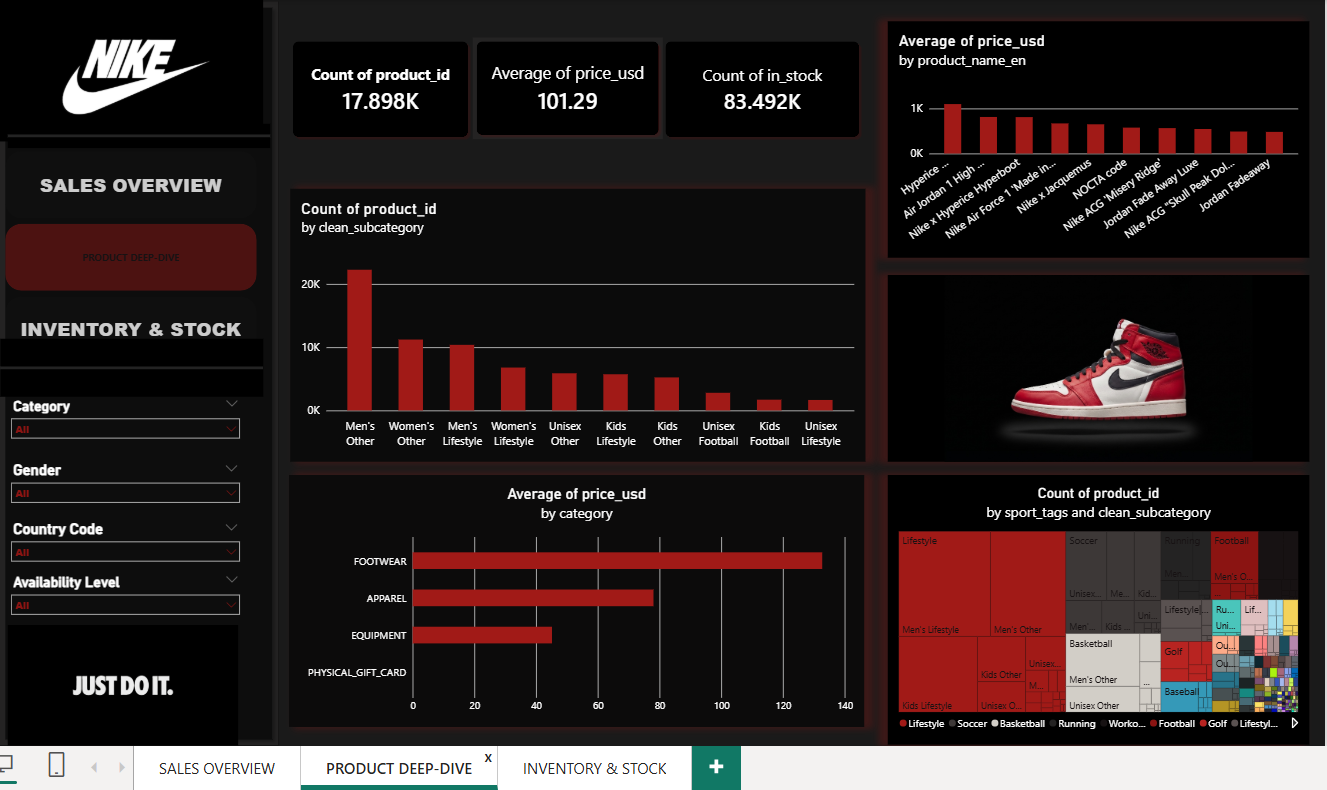

Layout of this report page (visuals, bound fields, positions):
{"tool":"powerbi","page":{"name":"PRODUCT DEEP-DIVE","canvas":[1920,1080],"ordinal":1},"visuals":[{"type":"shape","box":[0,2.5,405,1077.5],"z":0,"group":"g1"},{"type":"group","id":"g1","title":"Group 1","box":[0,2.5,405,1077.5],"z":0},{"type":"pageNavigator","box":[9.1,218.7,364.5,307.5],"z":1000},{"type":"slicer","fields":{"Values":["Nike_cleaned.category"]},"box":[12.9,574.9,341.1,75.1],"z":2000},{"type":"slicer","fields":{"Values":["Nike_cleaned.gender_clean"]},"box":[12.9,667.2,341.1,90.1],"z":3000},{"type":"slicer","fields":{"Values":["Nike_cleaned.country_code"]},"box":[12.9,753,341.1,79.4],"z":4000},{"type":"slicer","fields":{"Values":["Nike_cleaned.availability_level"]},"box":[12.9,830.2,341.1,77.2],"z":5000},{"type":"cardVisual","fields":{"Data":["Count(Nike_cleaned.product_id)"]},"box":[420,55,265,150],"z":6000},{"type":"cardVisual","fields":{"Data":["Avg(Nike_cleaned.price_usd)"]},"box":[685,55,275,147.5],"z":7000},{"type":"cardVisual","fields":{"Data":["CountNonNull(Nike_cleaned.in_stock)"]},"box":[960,55,292.5,150],"z":8000},{"type":"clusteredBarChart","fields":{"Category":["Nike_cleaned.category"],"Y":["Avg(Nike_cleaned.price_usd)"]},"box":[420,687.5,832.5,365],"z":9000},{"type":"treemap","fields":{"Details":["Nike_cleaned.clean_subcategory"],"Group":["Nike_cleaned.sport_tags"],"Values":["CountNonNull(Nike_cleaned.product_id)"]},"box":[1287.5,687.5,610,390],"z":10000},{"type":"clusteredColumnChart","fields":{"Category":["Nike_cleaned.clean_subcategory"],"Y":["CountNonNull(Nike_cleaned.product_id)"]},"box":[422.5,272.5,832.5,395],"z":11000},{"type":"columnChart","fields":{"Category":["Nike_cleaned.product_name_en"],"Y":["Avg(Nike_cleaned.price_usd)"]},"box":[1287.5,30,610,342.5],"z":12000},{"type":"shape","box":[2.3,489.8,380.4,84.3],"z":13000},{"type":"image","box":[1287.5,397.5,610,270],"z":14000},{"type":"image","box":[0,0,382.5,205],"z":15000},{"type":"image","box":[12.2,905.6,333.3,174.4],"z":16000},{"type":"shape","box":[12.5,180,380,35],"z":17000}]}

Visuals, with their boxes on the page's 1920x1080 design canvas (x1, y1, x2, y2). These are canvas units, not pixel positions in the 1327x790 screenshot, which may show the page scaled, cropped or inside an application window:
shape: (x1=0, y1=2, x2=405, y2=1080)
"Group 1" group: (x1=0, y1=2, x2=405, y2=1080)
pageNavigator: (x1=9, y1=219, x2=374, y2=526)
slicer - Nike_cleaned.category: (x1=13, y1=575, x2=354, y2=650)
slicer - Nike_cleaned.gender_clean: (x1=13, y1=667, x2=354, y2=757)
slicer - Nike_cleaned.country_code: (x1=13, y1=753, x2=354, y2=832)
slicer - Nike_cleaned.availability_level: (x1=13, y1=830, x2=354, y2=907)
cardVisual - Count(Nike_cleaned.product_id): (x1=420, y1=55, x2=685, y2=205)
cardVisual - Avg(Nike_cleaned.price_usd): (x1=685, y1=55, x2=960, y2=202)
cardVisual - CountNonNull(Nike_cleaned.in_stock): (x1=960, y1=55, x2=1252, y2=205)
clusteredBarChart - Nike_cleaned.category x Avg(Nike_cleaned.price_usd): (x1=420, y1=688, x2=1252, y2=1052)
treemap - Nike_cleaned.clean_subcategory x Nike_cleaned.sport_tags: (x1=1288, y1=688, x2=1898, y2=1078)
clusteredColumnChart - Nike_cleaned.clean_subcategory x CountNonNull(Nike_cleaned.product_id): (x1=422, y1=272, x2=1255, y2=668)
columnChart - Nike_cleaned.product_name_en x Avg(Nike_cleaned.price_usd): (x1=1288, y1=30, x2=1898, y2=372)
shape: (x1=2, y1=490, x2=383, y2=574)
image: (x1=1288, y1=398, x2=1898, y2=668)
image: (x1=0, y1=0, x2=382, y2=205)
image: (x1=12, y1=906, x2=346, y2=1080)
shape: (x1=12, y1=180, x2=392, y2=215)
